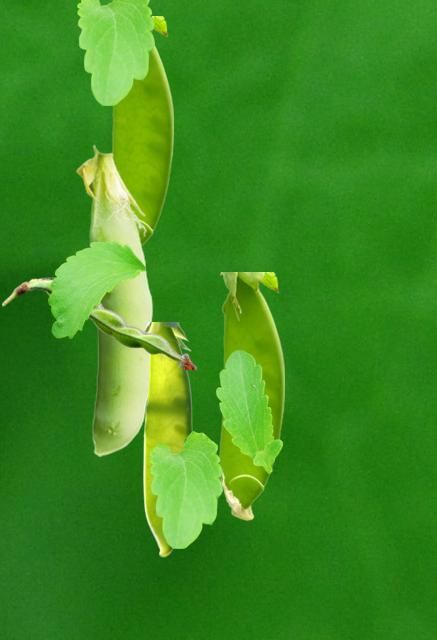pea: (76, 144, 152, 455), (2, 277, 196, 368), (219, 272, 283, 519), (110, 16, 172, 247), (143, 322, 192, 556)
